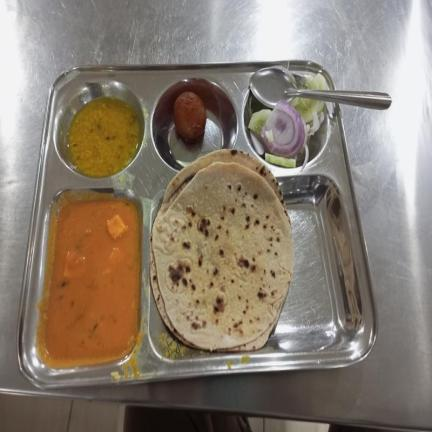Chana Dal: (66, 97, 141, 174)
Gulab Jamun: (174, 90, 207, 142)
Paneer: (43, 200, 139, 360)
Plate: (15, 60, 378, 387)
Roti: (150, 147, 296, 353)
Salad: (247, 68, 334, 168)
